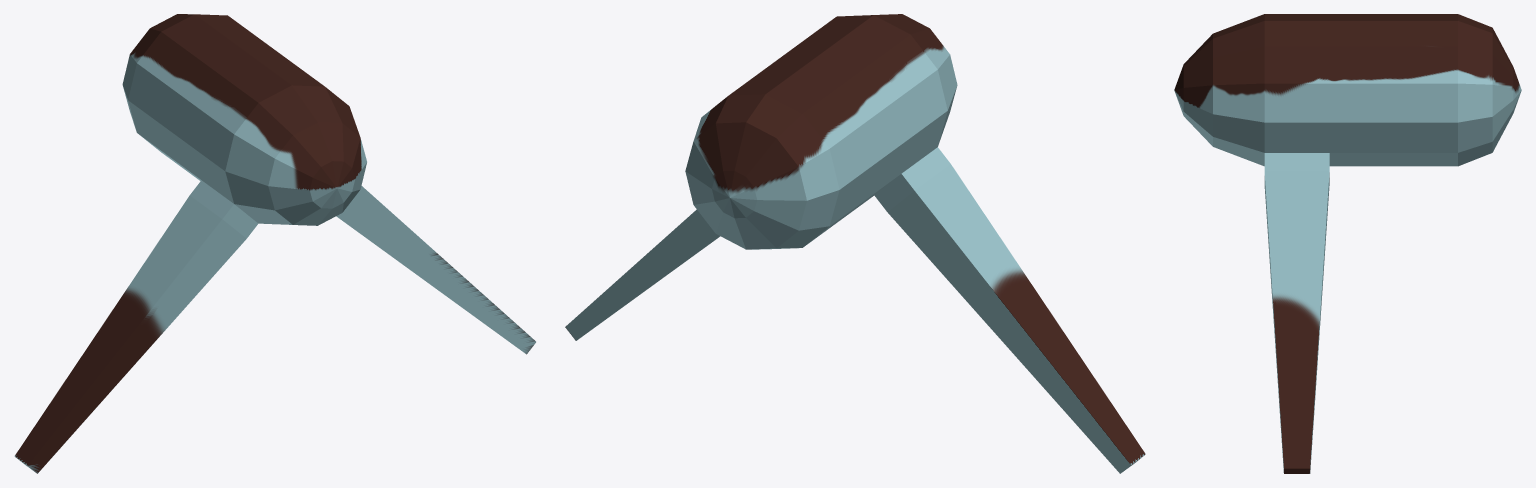
Rendered from ReaperNeck.glb.
3 renders of one model, left to right at view 1: azimuth 30°, elevation 25°; view 2: azimuth 150°, elevation 25°; view 3: azimuth 270°, elevation 25°, orthographic. The views are drawn at different scales.
Visible parts, largest first — view 1: ReaperNeck; view 2: ReaperNeck; view 3: ReaperNeck.
Part boxes in pixels (bbox=[...]): ReaperNeck: bbox=[14, 14, 535, 473]; ReaperNeck: bbox=[565, 14, 1145, 473]; ReaperNeck: bbox=[1174, 14, 1521, 473].
Bounding box in the file's own units: 13.75 × 8.68 × 8.18.
1 material, 1 textured.
